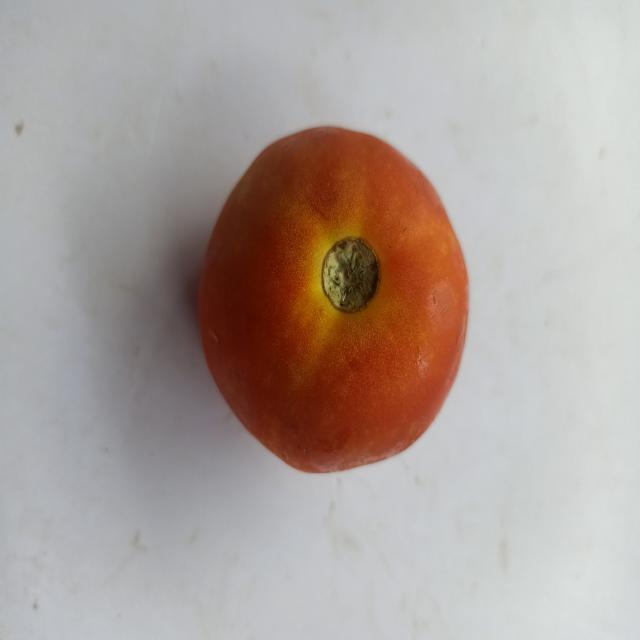Tomato: (186, 101, 485, 502)
